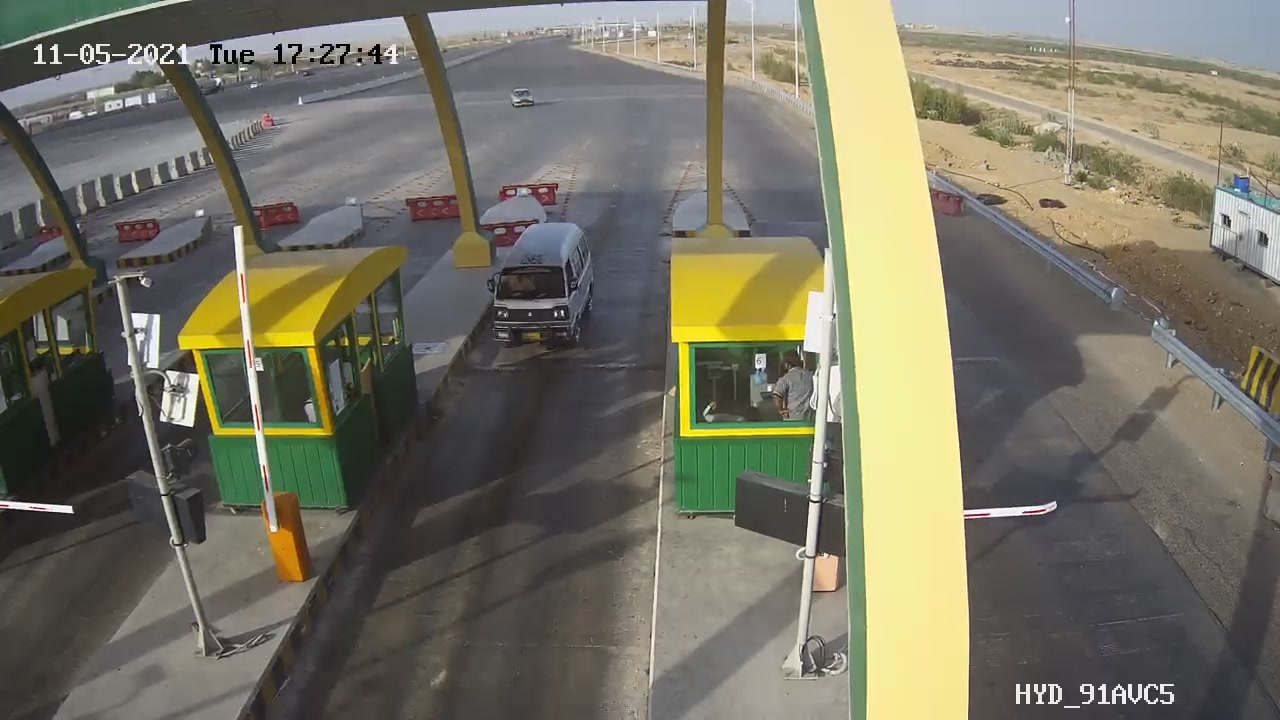F1: (466, 209, 609, 370)
